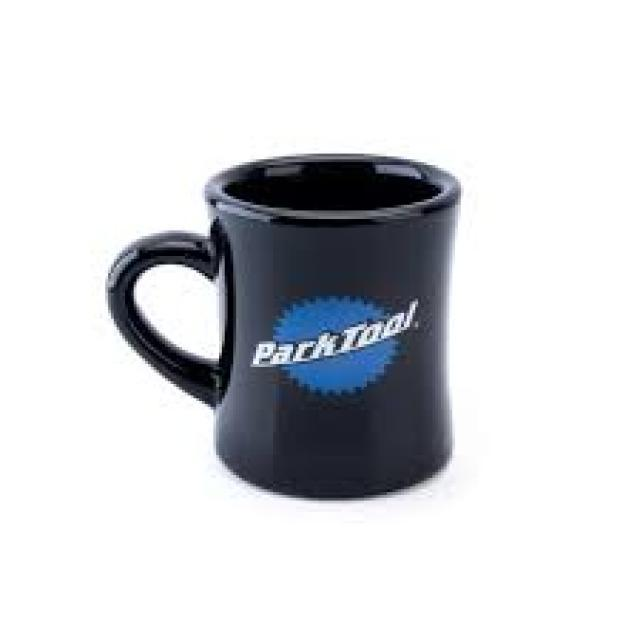taza: (106, 151, 463, 503)
